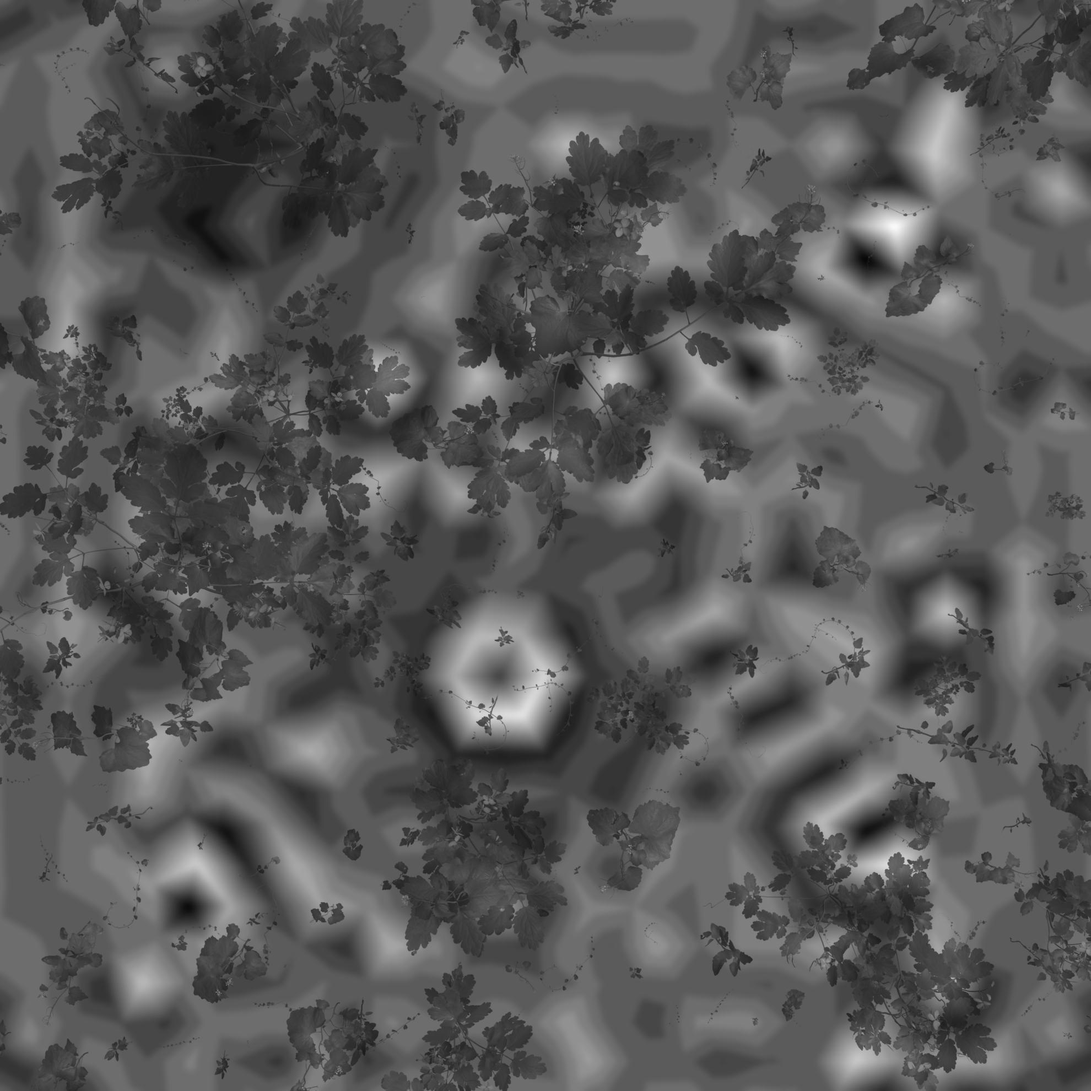landmine: (399, 578, 606, 775), (148, 106, 337, 295)
